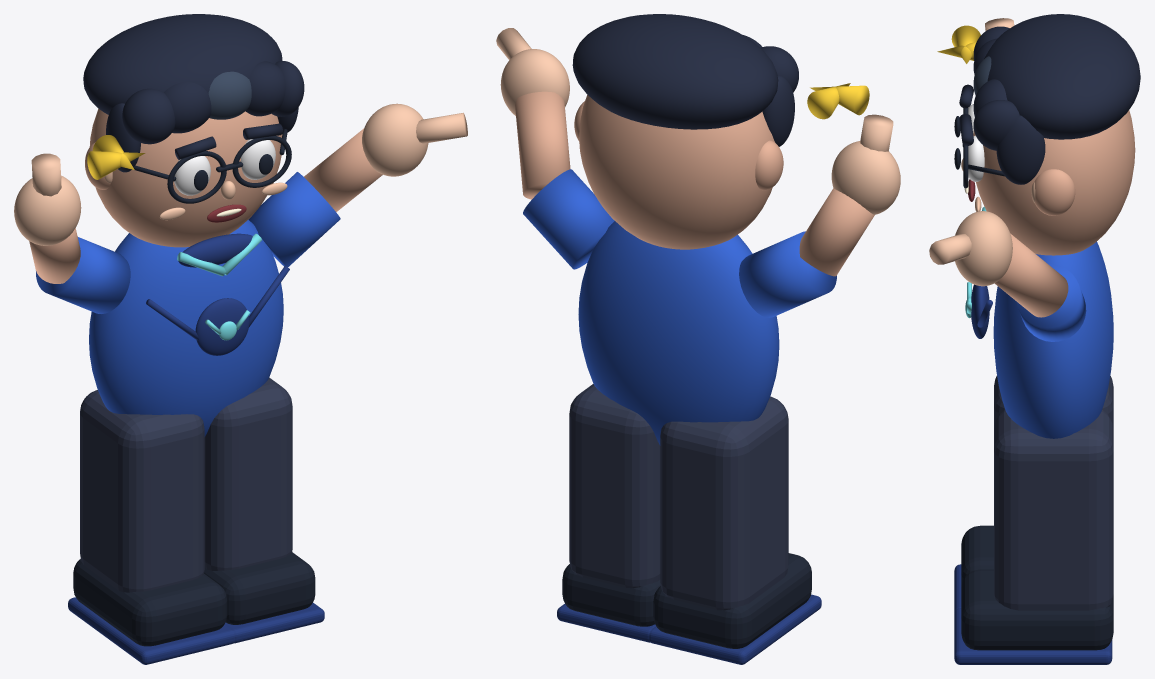
The picture shows the model from 3 angles, left to right: view 1: azimuth 30°, elevation 25°; view 2: azimuth 150°, elevation 25°; view 3: azimuth 270°, elevation 25°; orthographic projection. The views are drawn at different scales.
Visible parts, largest first — view 1: man, pants.L, pants.R, head, hair-back, shoe.L, shoe.R, sleeve.R, sleeve.L, hand.R, hand.L, arm.R (+18 smaller); view 2: man, pants.L, head, hair-back, pants.R, shoe.L, sleeve.R, sleeve.L, arm.R, arm.L, hand.L, shoe.R (+10 smaller); view 3: pants.R, hair-back, man, head, shoe.R, arm.R, hand.R, sole.R, sideburn.R, sleeve.R, hair-bang-04, ear.R (+11 smaller).
Part boxes in pixels (x1=…): man: x1=89, y1=219, x2=283, y2=436; pants.L: x1=80, y1=390, x2=204, y2=592; pants.R: x1=204, y1=377, x2=292, y2=570; head: x1=89, y1=108, x2=282, y2=247; hair-back: x1=83, y1=14, x2=282, y2=114; shoe.L: x1=73, y1=559, x2=227, y2=646; shoe.R: x1=204, y1=552, x2=315, y2=624; sleeve.R: x1=248, y1=172, x2=340, y2=266; sleeve.L: x1=36, y1=237, x2=130, y2=313; hand.R: x1=362, y1=103, x2=428, y2=176; hand.L: x1=14, y1=175, x2=81, y2=245; arm.R: x1=304, y1=128, x2=382, y2=212; man: x1=578, y1=221, x2=779, y2=445; pants.L: x1=660, y1=396, x2=788, y2=610; head: x1=579, y1=95, x2=774, y2=249; hair-back: x1=572, y1=14, x2=778, y2=129; pants.R: x1=569, y1=384, x2=660, y2=588; shoe.L: x1=653, y1=553, x2=811, y2=648; sleeve.R: x1=523, y1=169, x2=614, y2=269; sleeve.L: x1=739, y1=231, x2=836, y2=317; arm.R: x1=515, y1=91, x2=570, y2=199; arm.L: x1=799, y1=188, x2=874, y2=276; hand.L: x1=831, y1=141, x2=900, y2=214; shoe.R: x1=562, y1=564, x2=660, y2=626; pants.R: x1=994, y1=410, x2=1113, y2=610; hair-back: x1=984, y1=14, x2=1140, y2=139; man: x1=993, y1=241, x2=1113, y2=438; head: x1=973, y1=110, x2=1135, y2=255; shoe.R: x1=961, y1=569, x2=1113, y2=650; arm.R: x1=994, y1=233, x2=1068, y2=317; hand.R: x1=955, y1=211, x2=1012, y2=286; sole.R: x1=954, y1=608, x2=1112, y2=664; sideburn.R: x1=996, y1=115, x2=1045, y2=184; sleeve.R: x1=1016, y1=264, x2=1086, y2=341; hair-bang-04: x1=973, y1=100, x2=1019, y2=150; ear.R: x1=1034, y1=169, x2=1075, y2=215.
Size of the model in its own units: 1.81 by 2.39 by 0.7777.
